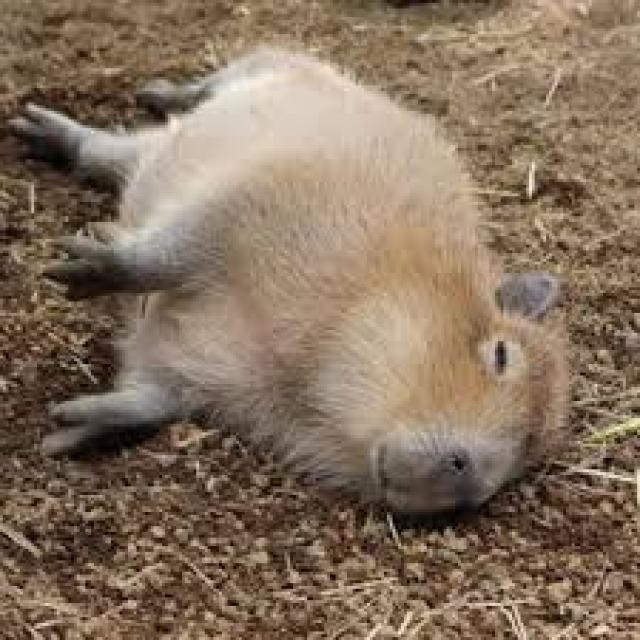capy: (12, 46, 571, 543)
